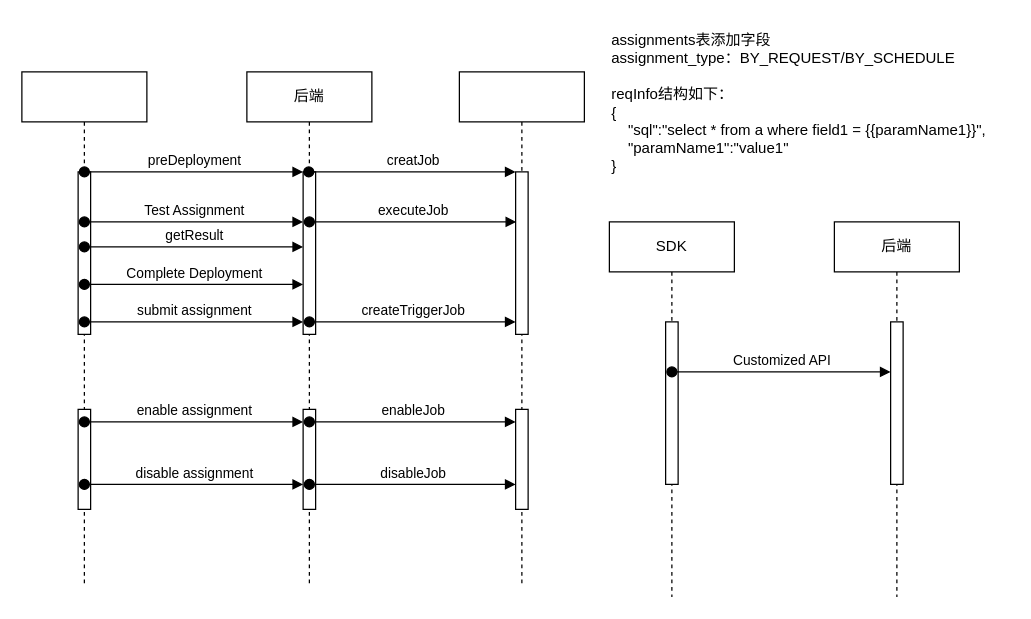
This 1031x619 diagram has some shape labels left out. The shapes that lost their labels are listed below. From the top down, each one's centre as x and y in pixels, then its label:
At [84,327]: "前端".
At [521,327]: "data service".
